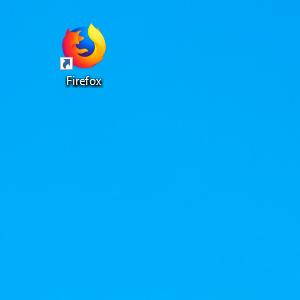firefox: (59, 22, 107, 70)
